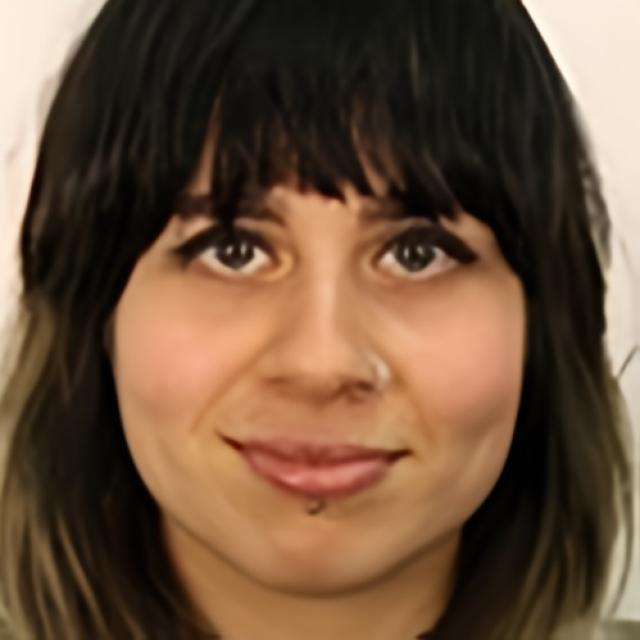content: (108, 33, 531, 590)
